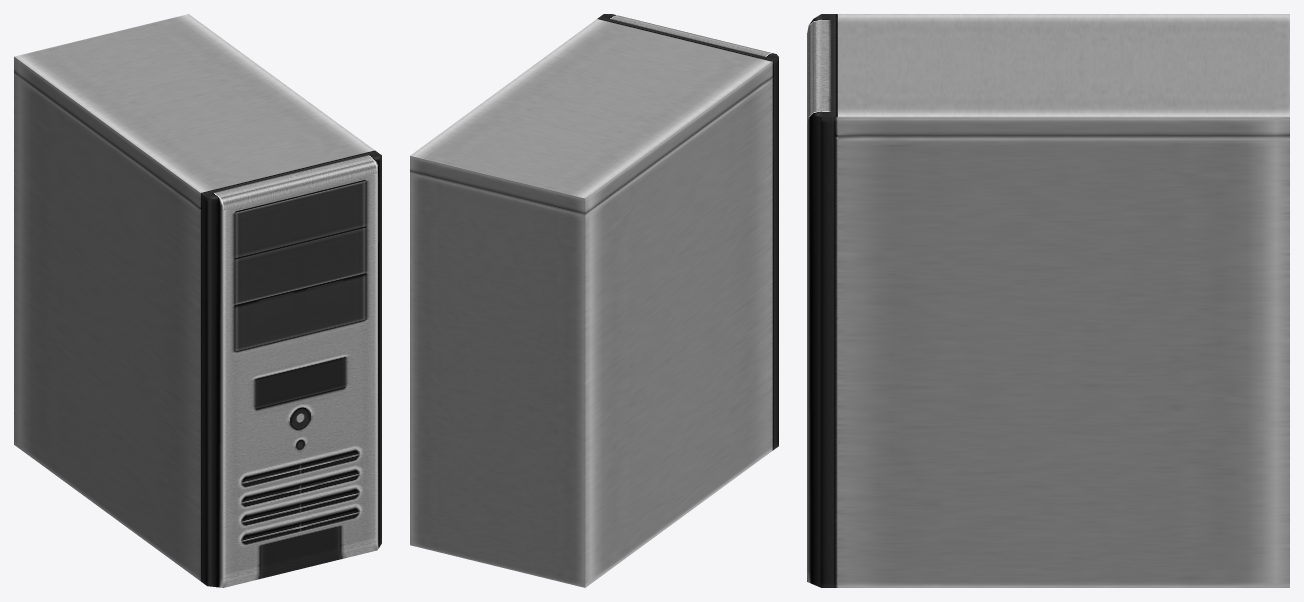
File: ComputerB.FBX
The picture shows the model from 3 angles, left to right: view 1: azimuth 30°, elevation 25°; view 2: azimuth 150°, elevation 25°; view 3: azimuth 270°, elevation 25°; orthographic projection. The views are drawn at different scales.
Visible parts, largest first — view 1: ComputerB; view 2: ComputerB; view 3: ComputerB.
Boxes of the visible parts, <box> form: ComputerB: <box>14,14,381,587</box>; ComputerB: <box>410,14,778,587</box>; ComputerB: <box>807,14,1289,587</box>.
Size of the model in its own units: 19.86 by 39.21 by 42.18.
Materials: 1 (1 with a texture image).
